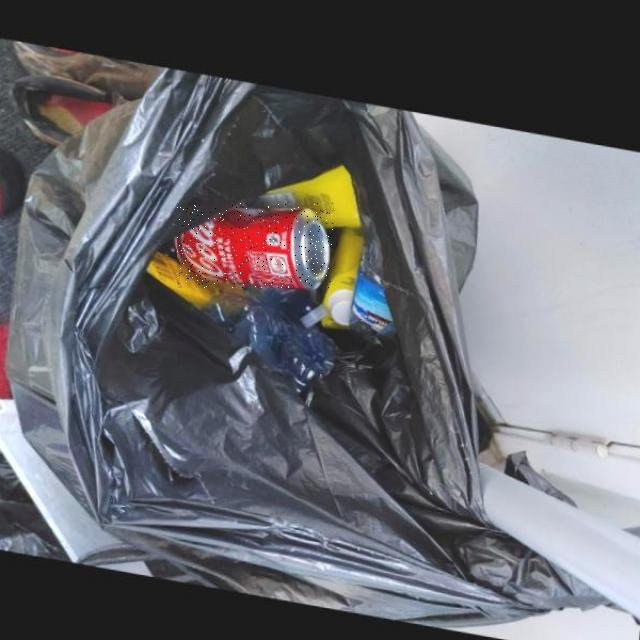metal: (178, 203, 333, 287)
